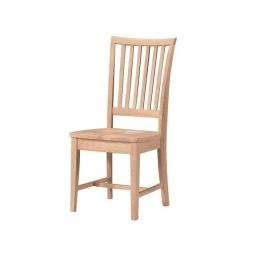Chair: (68, 37, 177, 220)
